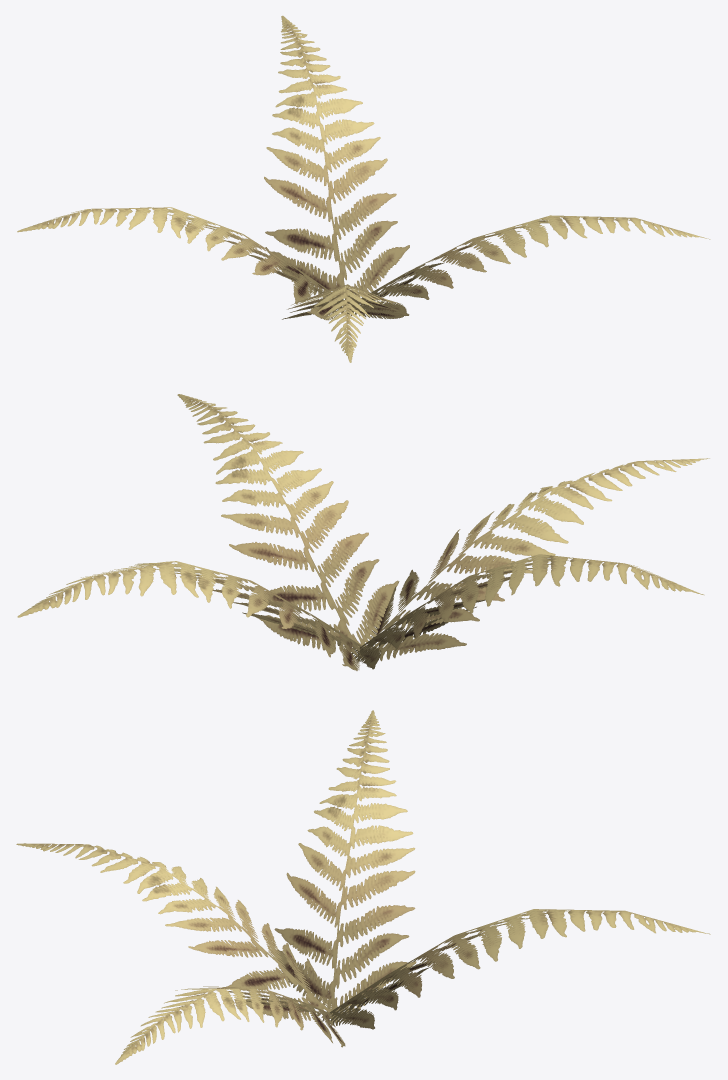
The model's file is helecho_2_vcta.fbx.
The picture shows the model from 3 angles, top to bottom: view 1: azimuth 30°, elevation 25°; view 2: azimuth 150°, elevation 25°; view 3: azimuth 270°, elevation 25°; orthographic projection. The views are drawn at different scales.
Visible parts, largest first — view 1: helecho_2_vcta; view 2: helecho_2_vcta; view 3: helecho_2_vcta.
Boxes of the visible parts, box(x1,y1,x2,y2) form: helecho_2_vcta: box(17, 15, 710, 362); helecho_2_vcta: box(17, 394, 709, 670); helecho_2_vcta: box(16, 710, 710, 1064).
Size of the model in its own units: 141 by 38.58 by 141.
